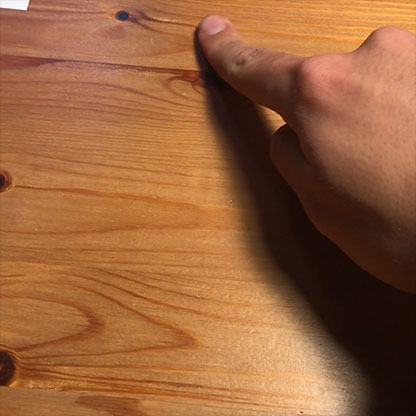fingertip: (193, 10, 241, 45)
